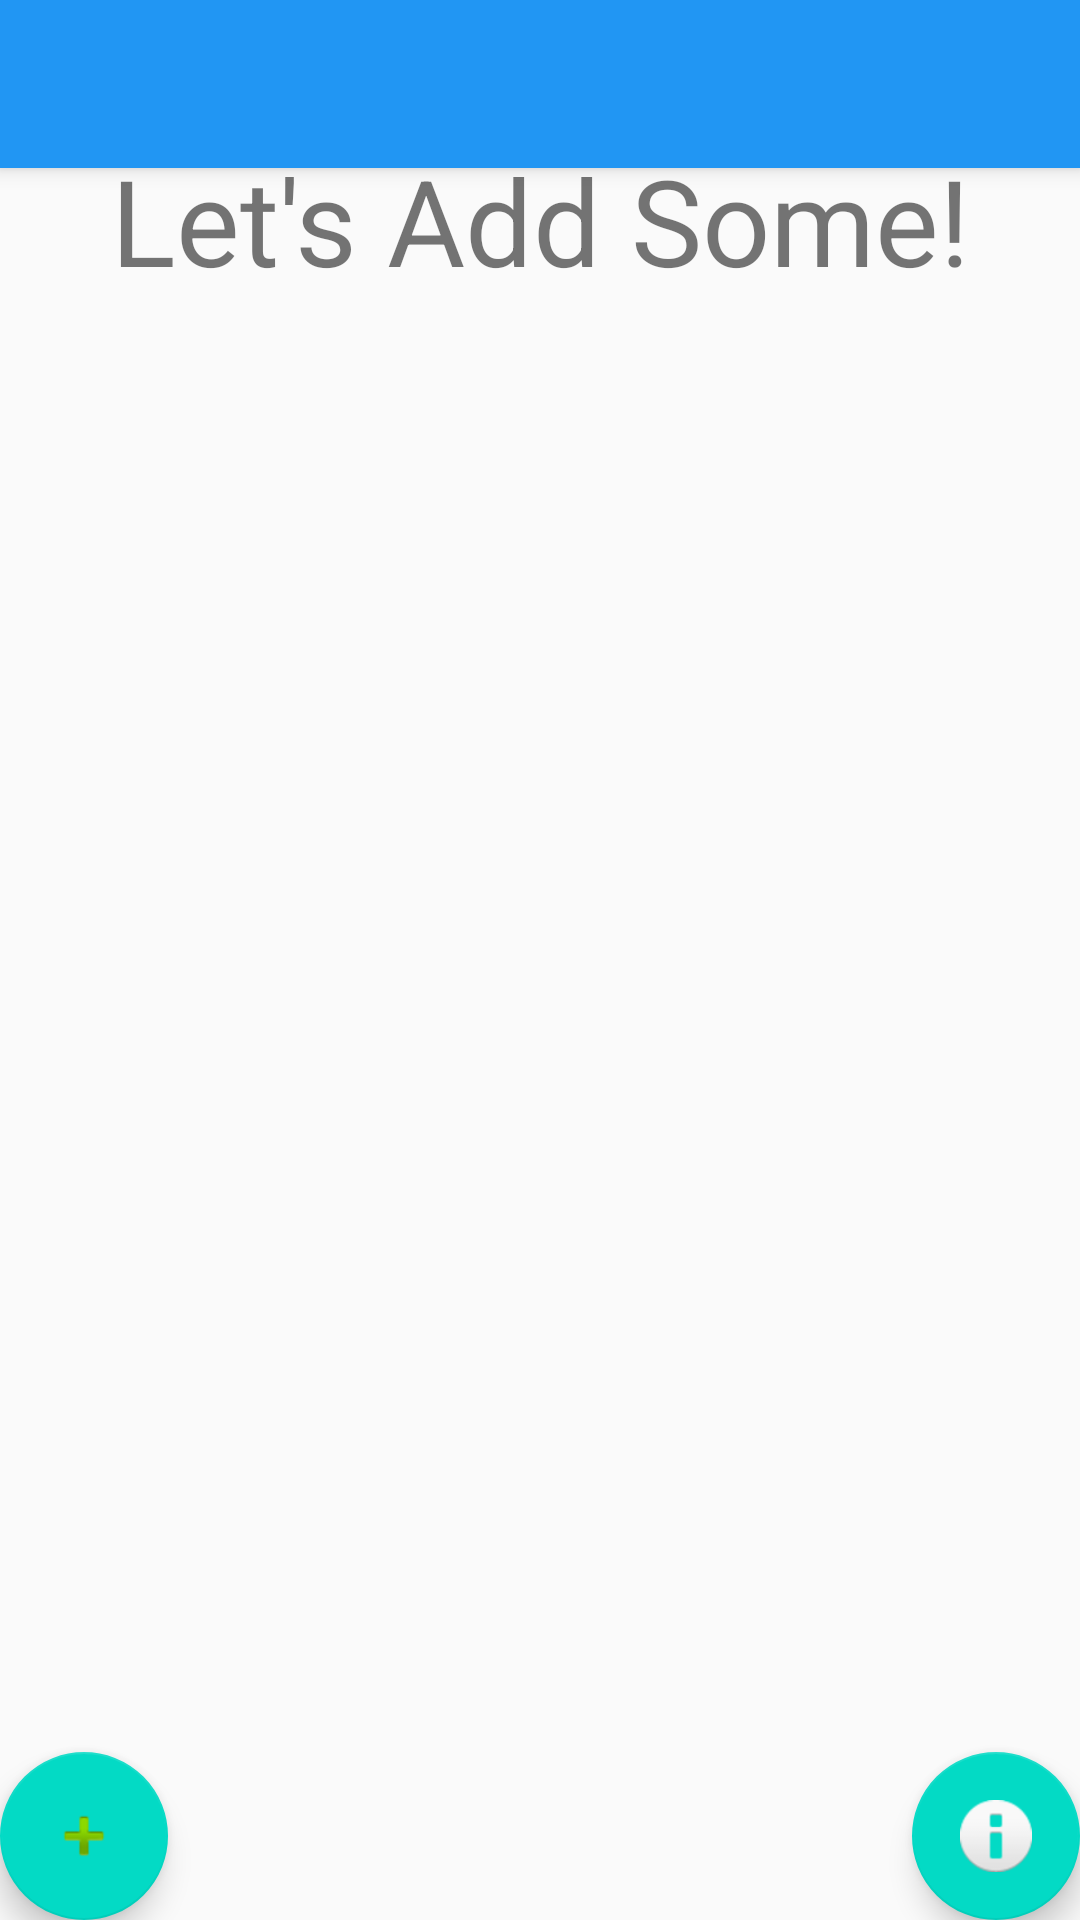

Icon click points for this 1080px x 1920px phone screenshot, format (x,y):
add: (84,1836)
info: (996,1836)
